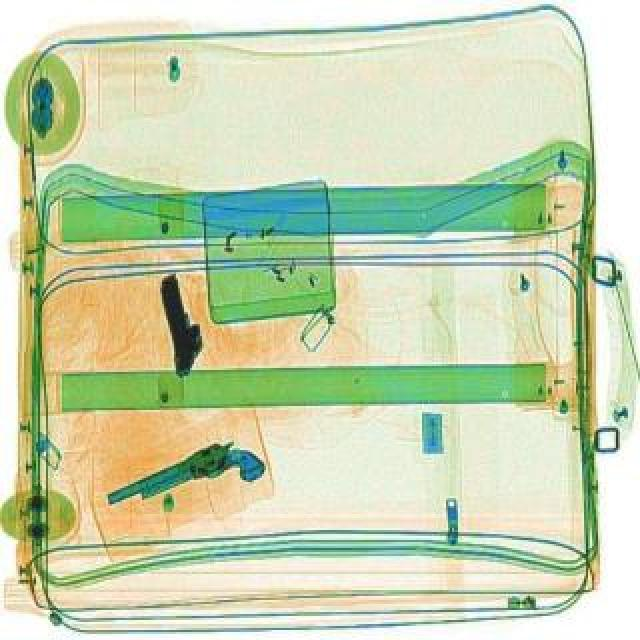gun: (102, 428, 268, 538), (154, 268, 210, 376)
